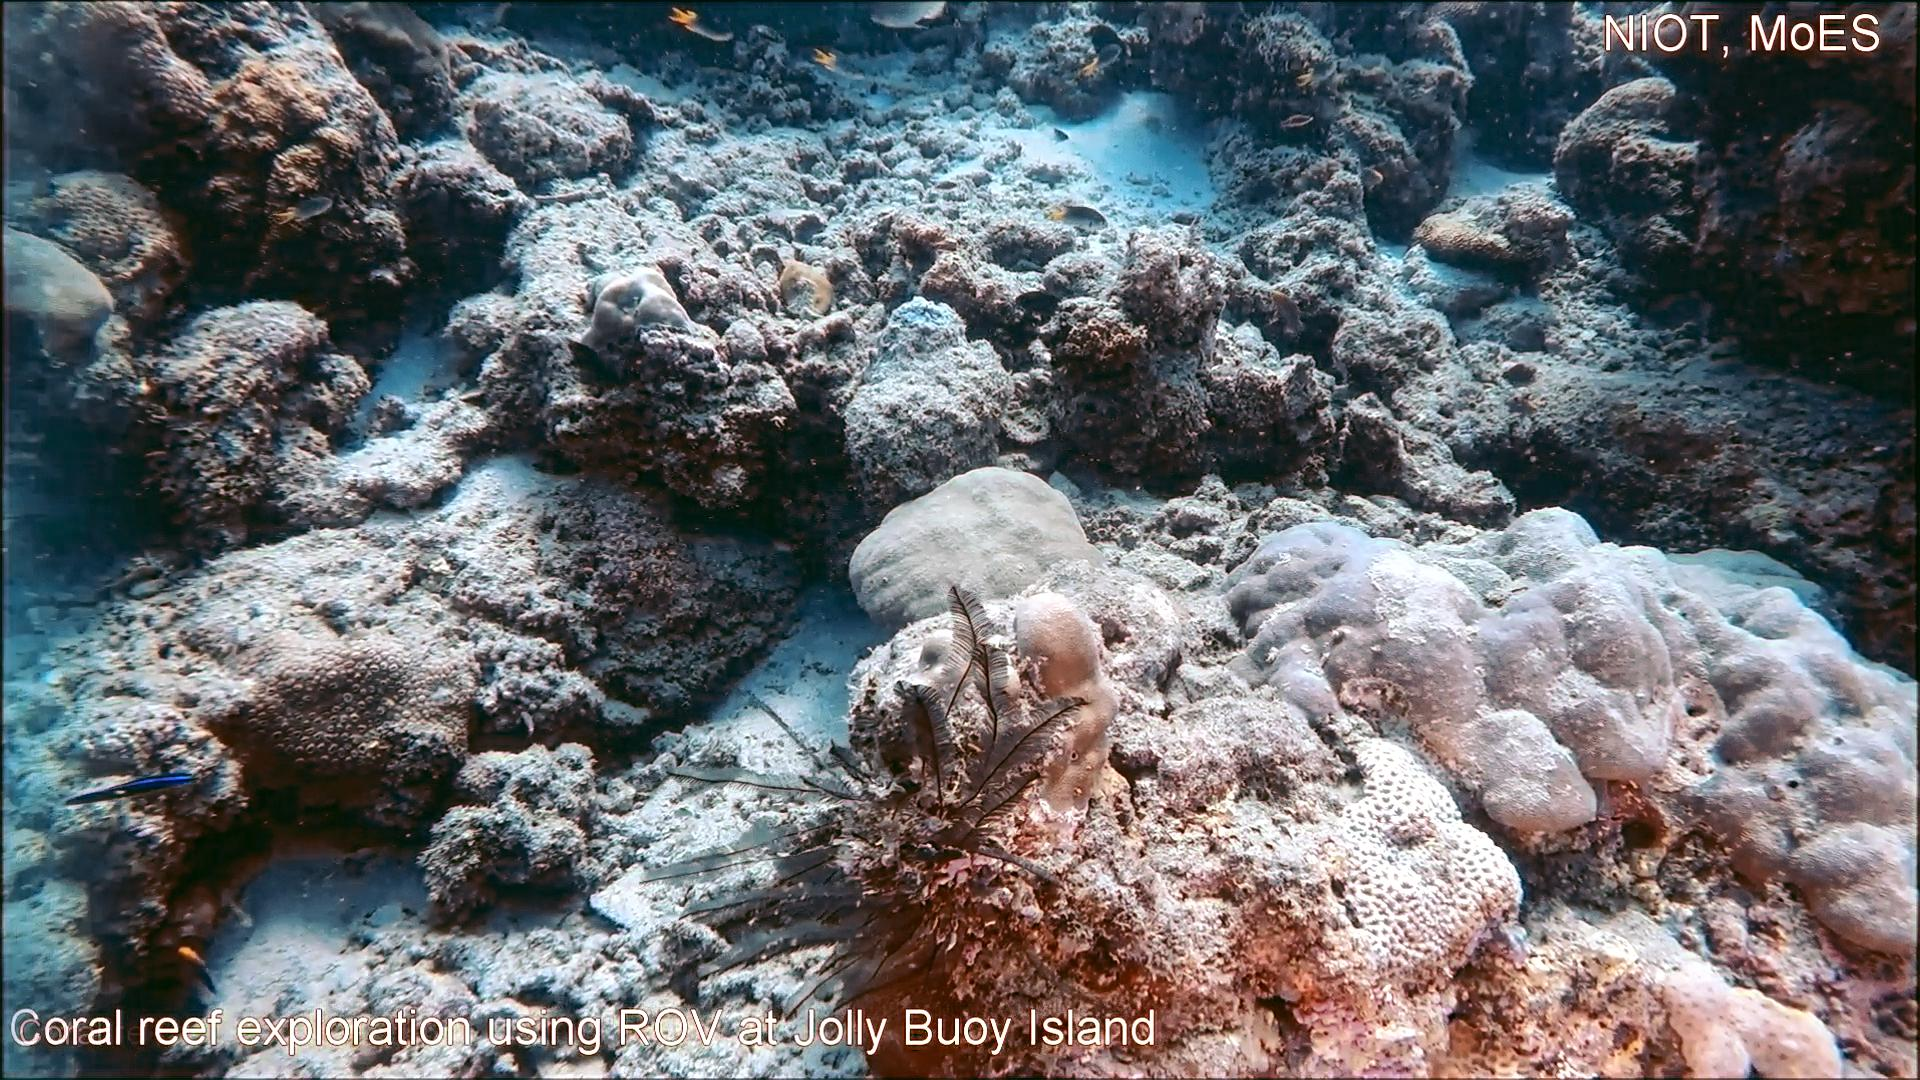Feather star-Crinoid star: (634, 576, 1096, 1054)
Goniastrea-Goniastrea pectinata: (1290, 723, 1531, 989)
Porites-Porites pukoensis: (1568, 498, 1920, 955)
Turbinaria-Turbinaria stellulata: (210, 633, 477, 793)
